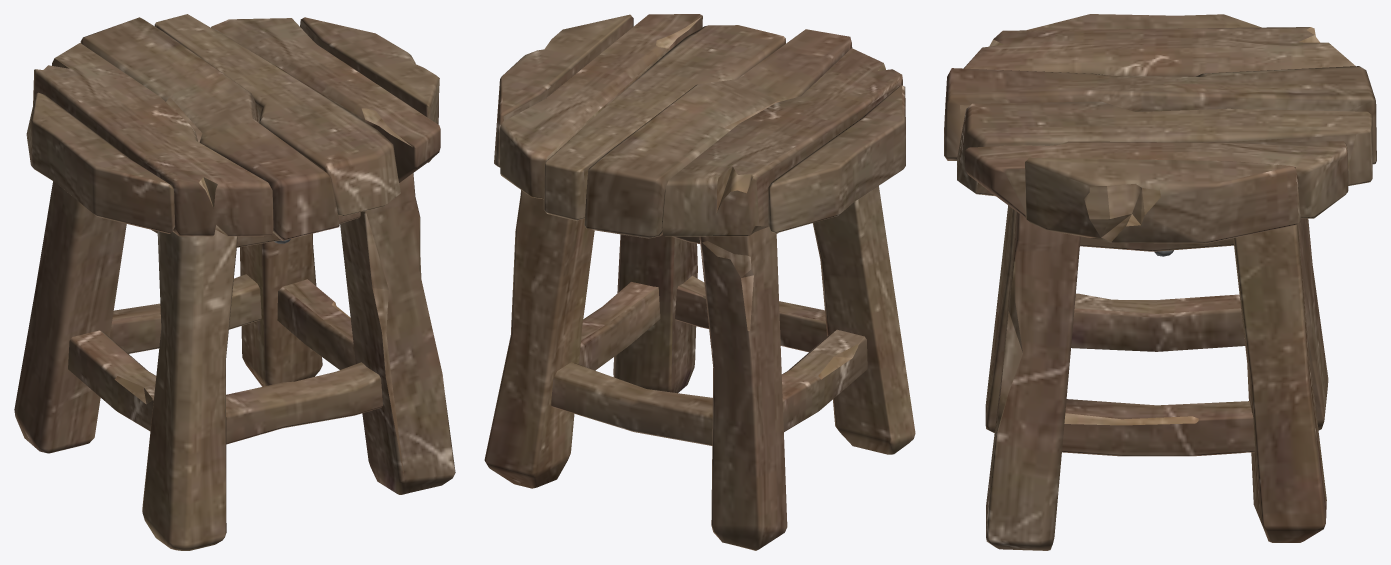
The picture shows the model from 3 angles, left to right: view 1: azimuth 30°, elevation 25°; view 2: azimuth 150°, elevation 25°; view 3: azimuth 270°, elevation 25°; orthographic projection. The views are drawn at different scales.
Parts seen in each view (by area): view 1: SM_Chair_01v1_LOD0; view 2: SM_Chair_01v1_LOD0; view 3: SM_Chair_01v1_LOD0.
Boxes of the visible parts, x1=… form: SM_Chair_01v1_LOD0: x1=14, y1=14, x2=455, y2=550; SM_Chair_01v1_LOD0: x1=484, y1=14, x2=915, y2=550; SM_Chair_01v1_LOD0: x1=944, y1=14, x2=1376, y2=550.
Bounding box in the file's own units: 0.5154 × 0.5201 × 0.5177.
Materials: 1 (1 with a texture image).
